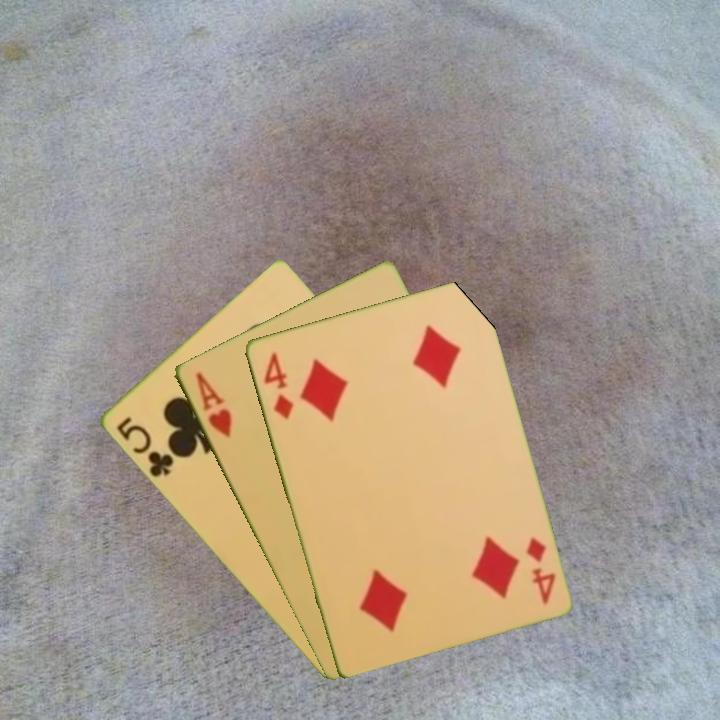4d: (259, 348, 296, 422), (522, 533, 558, 607)
5c: (112, 413, 176, 481)
Ah: (191, 368, 235, 440)
